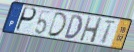5: (33, 9, 52, 36)
D: (46, 11, 68, 38), (63, 14, 84, 40)
H: (78, 16, 104, 45)
P: (14, 6, 38, 33)
T: (100, 19, 117, 45)
